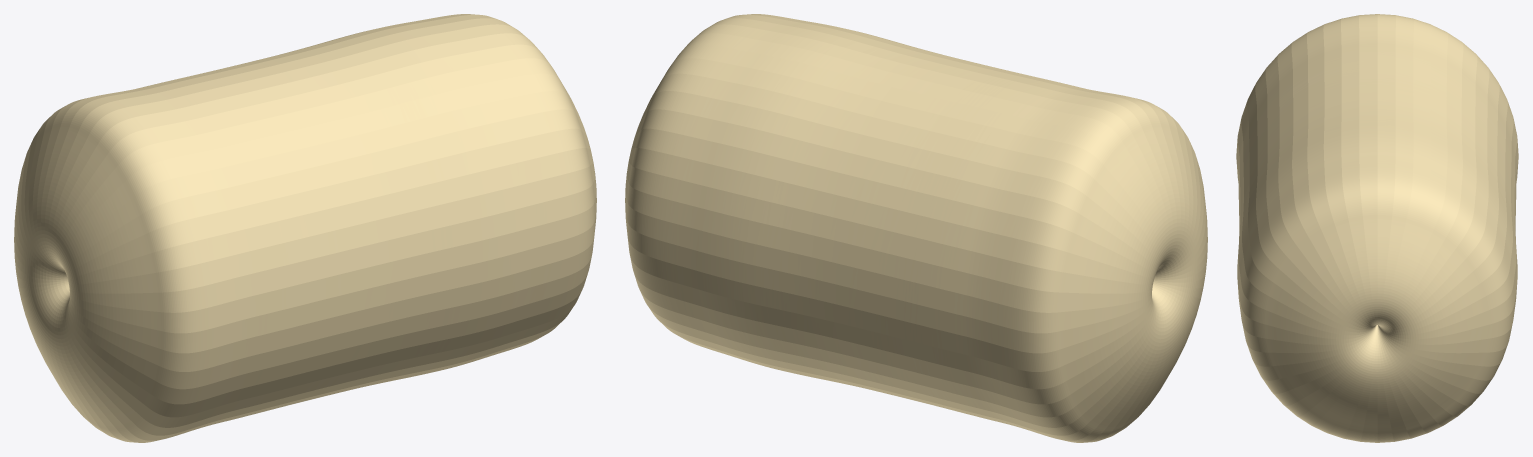
File: tinker.obj
3 renders of one model, left to right at view 1: azimuth 30°, elevation 25°; view 2: azimuth 150°, elevation 25°; view 3: azimuth 270°, elevation 25°, orthographic. The views are drawn at different scales.
Visible parts, largest first — view 1: obj_0; view 2: obj_0; view 3: obj_0.
Boxes of the visible parts, bbox=[...] form: obj_0: bbox=[14, 14, 596, 442]; obj_0: bbox=[625, 14, 1207, 442]; obj_0: bbox=[1236, 14, 1518, 442].
Bounding box in the file's own units: 5 × 3 × 2.8.
